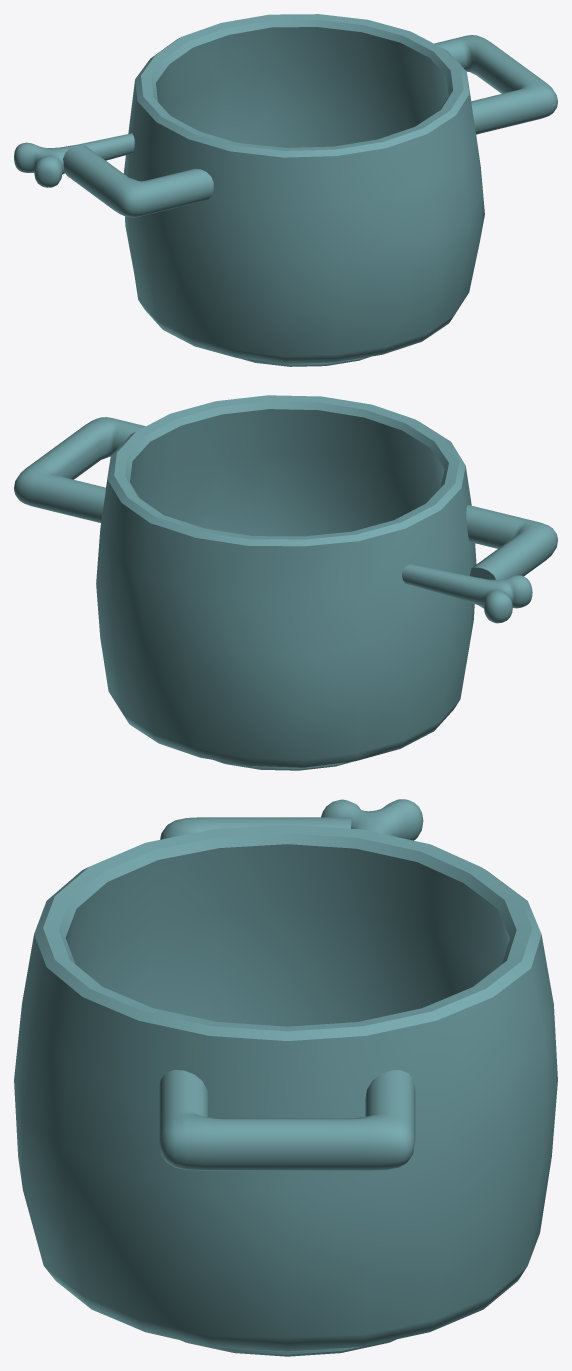
The model's file is SM_POT_ROCK.fbx.
3 renders of one model, top to bottom at view 1: azimuth 30°, elevation 25°; view 2: azimuth 150°, elevation 25°; view 3: azimuth 270°, elevation 25°, orthographic. The views are drawn at different scales.
Visible parts, largest first — view 1: SM_POT_ROCK; view 2: SM_POT_ROCK; view 3: SM_POT_ROCK.
Boxes of the visible parts, <box> form: SM_POT_ROCK: <box>14,14,557,366</box>; SM_POT_ROCK: <box>14,395,557,770</box>; SM_POT_ROCK: <box>14,799,557,1356</box>.
Bounding box in the file's own units: 49.35 × 23.75 × 32.92.
